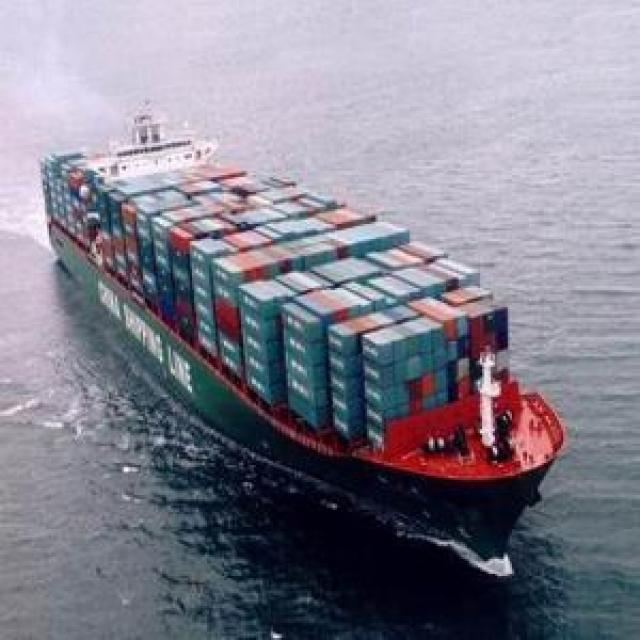cargoship: (25, 95, 568, 553)
